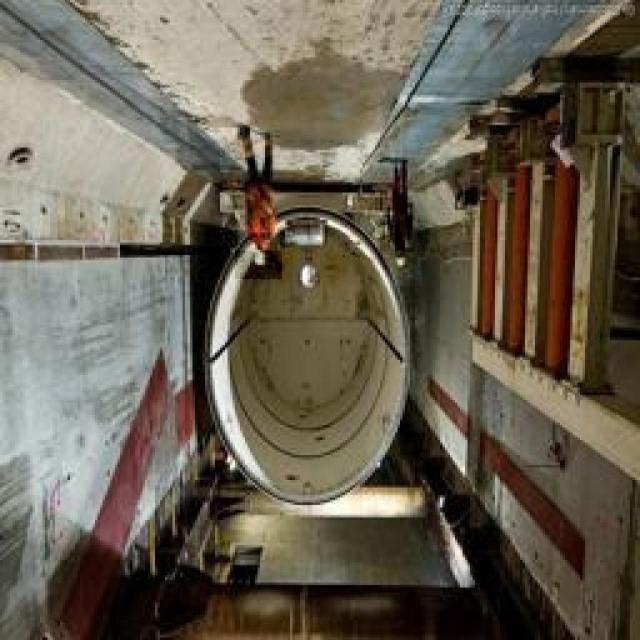Helmet: (235, 235, 282, 279), (383, 244, 422, 286)
Safety Vest: (232, 161, 292, 251), (383, 192, 428, 252)
